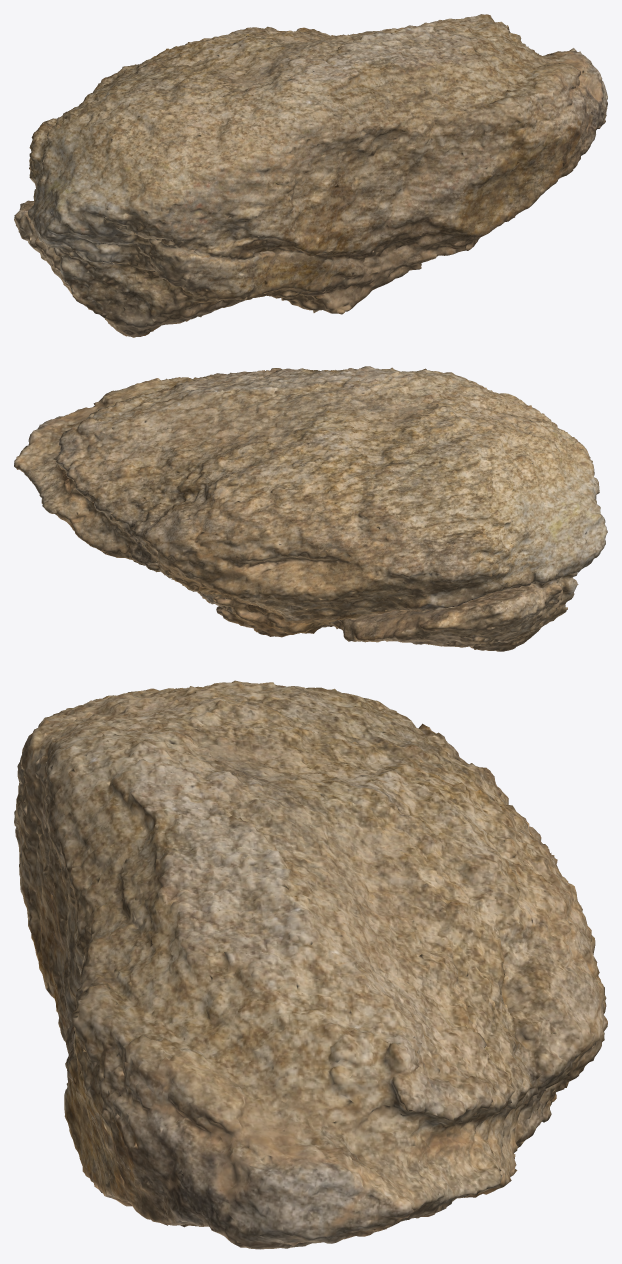
Rendered from namaqualand_boulder_05.glb.
3 views of the same model, one above another, from view 1: azimuth 30°, elevation 25°; view 2: azimuth 150°, elevation 25°; view 3: azimuth 270°, elevation 25° (orthographic). The views are drawn at different scales.
Parts seen in each view (by area): view 1: namaqualand_boulder_05; view 2: namaqualand_boulder_05; view 3: namaqualand_boulder_05.
Part boxes in pixels (bbox=[...]): namaqualand_boulder_05: bbox=[14, 14, 607, 337]; namaqualand_boulder_05: bbox=[14, 366, 607, 651]; namaqualand_boulder_05: bbox=[14, 680, 607, 1249].
Bounding box in the file's own units: 1.36 × 0.5383 × 0.748.
Materials: 1 (1 with a texture image).
